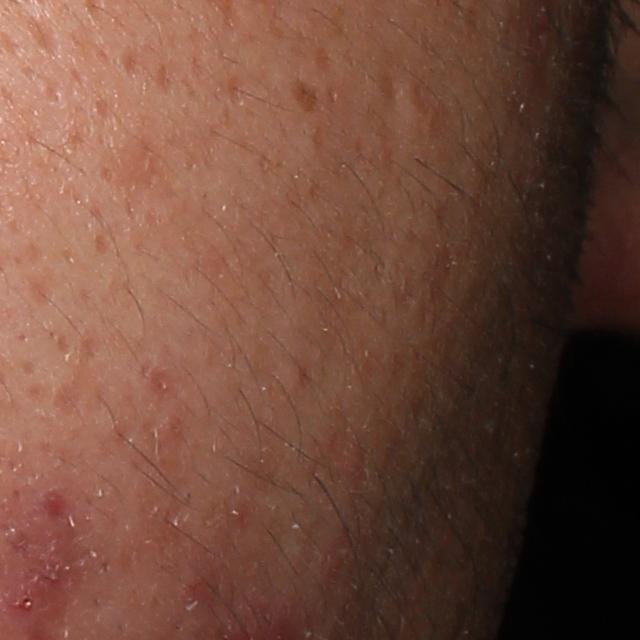atrophic_scar: (51, 334, 107, 422), (24, 14, 63, 57), (225, 70, 247, 111), (382, 74, 402, 114)
